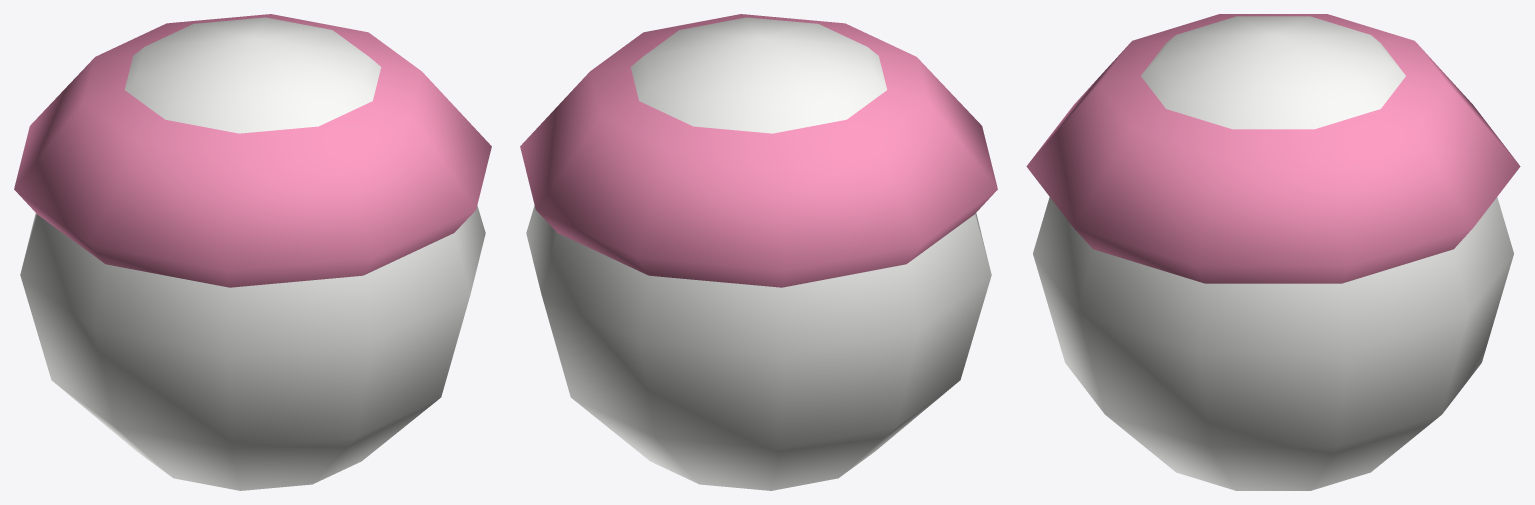
3 renders of one model, left to right at view 1: azimuth 30°, elevation 25°; view 2: azimuth 150°, elevation 25°; view 3: azimuth 270°, elevation 25°, orthographic.
Visible parts, largest first — view 1: capsule; view 2: capsule; view 3: capsule.
Part boxes in pixels (box(x1,y1,x2,y2)): capsule: box(14, 14, 491, 490); capsule: box(520, 14, 997, 490); capsule: box(1026, 14, 1520, 490).
Bounding box in the file's own units: 0.1465 × 0.15 × 0.154.
